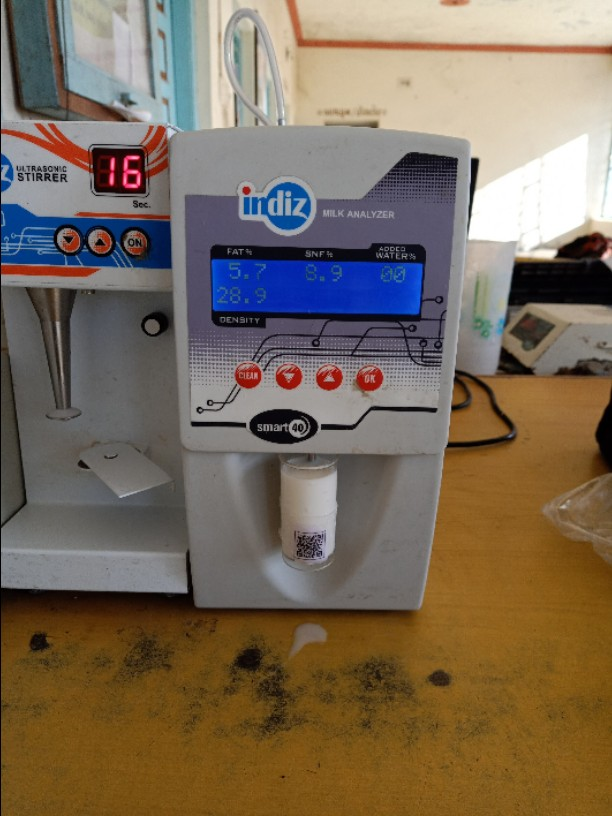lcd: (203, 248, 432, 327)
qr: (291, 527, 332, 566)
